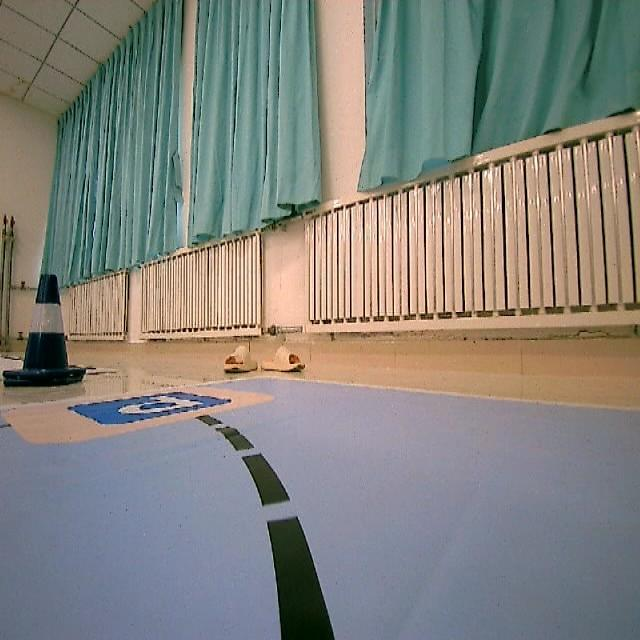obstacle: (0, 276, 87, 394)
